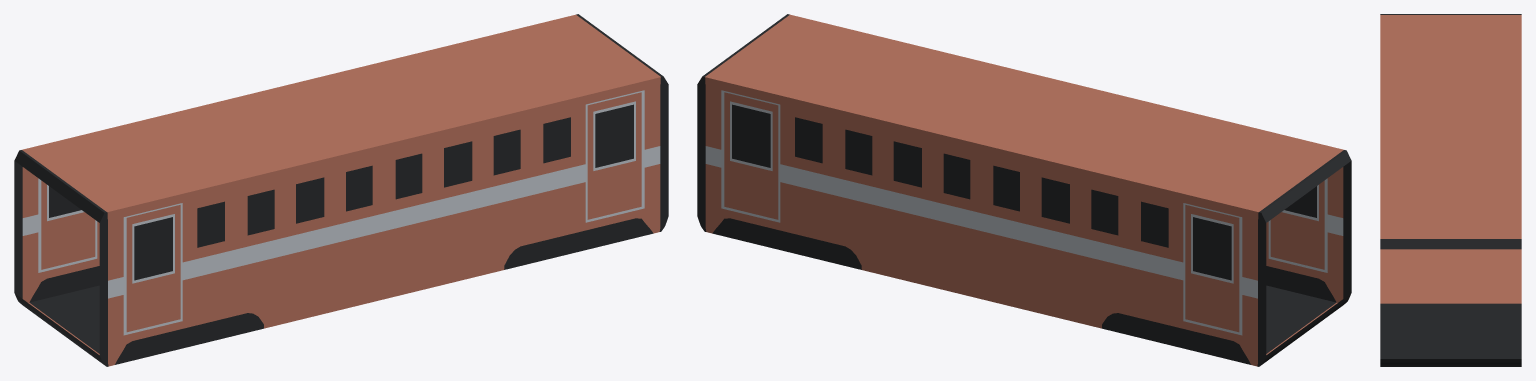
Rendered from Red_Train_Body_01.fbx.
3 renders of one model, left to right at view 1: azimuth 30°, elevation 25°; view 2: azimuth 150°, elevation 25°; view 3: azimuth 270°, elevation 25°, orthographic. The views are drawn at different scales.
Parts seen in each view (by area): view 1: Body; view 2: Body; view 3: Body.
Boxes of the visible parts, bbox=[...] form: Body: bbox=[14, 14, 668, 366]; Body: bbox=[697, 14, 1351, 366]; Body: bbox=[1380, 14, 1521, 366].
Size of the model in its own units: 577 by 150 by 150.
